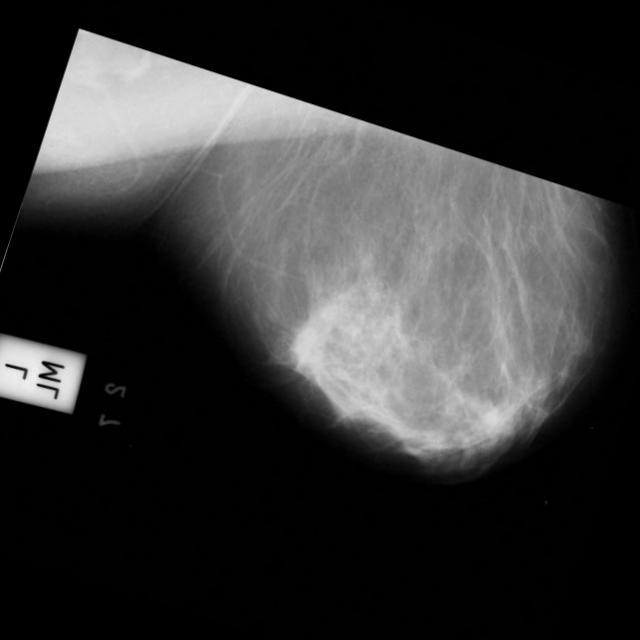ASYM: (286, 324, 330, 369)
